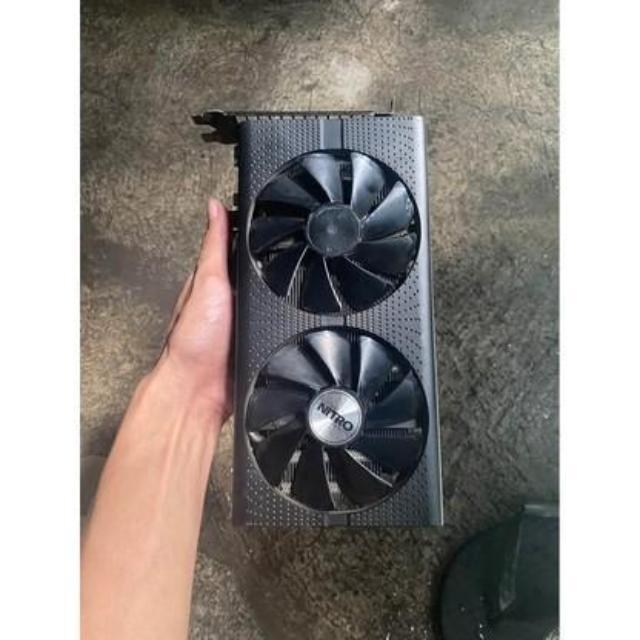GPU: (202, 97, 453, 532)
